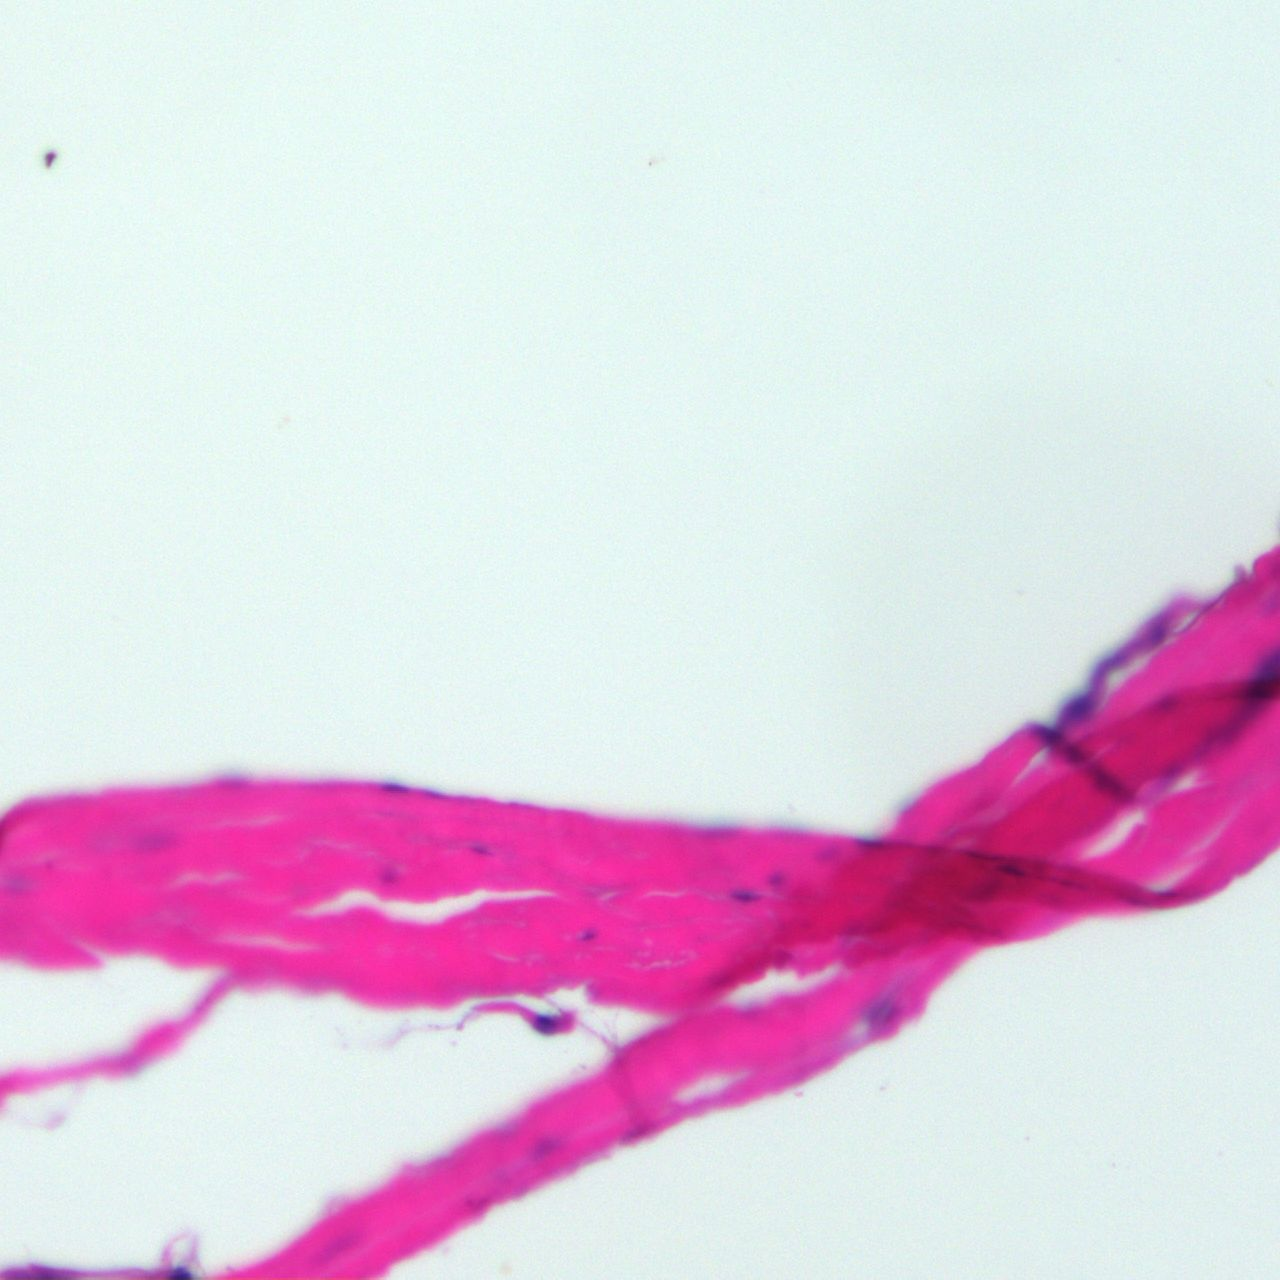dust: (38, 144, 59, 173)
nucleus-HE: (1020, 706, 1137, 812), (1051, 656, 1125, 729), (520, 1122, 576, 1167), (374, 857, 399, 885), (765, 865, 791, 891), (992, 860, 1023, 878), (533, 1013, 556, 1035), (729, 887, 758, 904), (576, 927, 598, 946), (467, 840, 488, 857)
